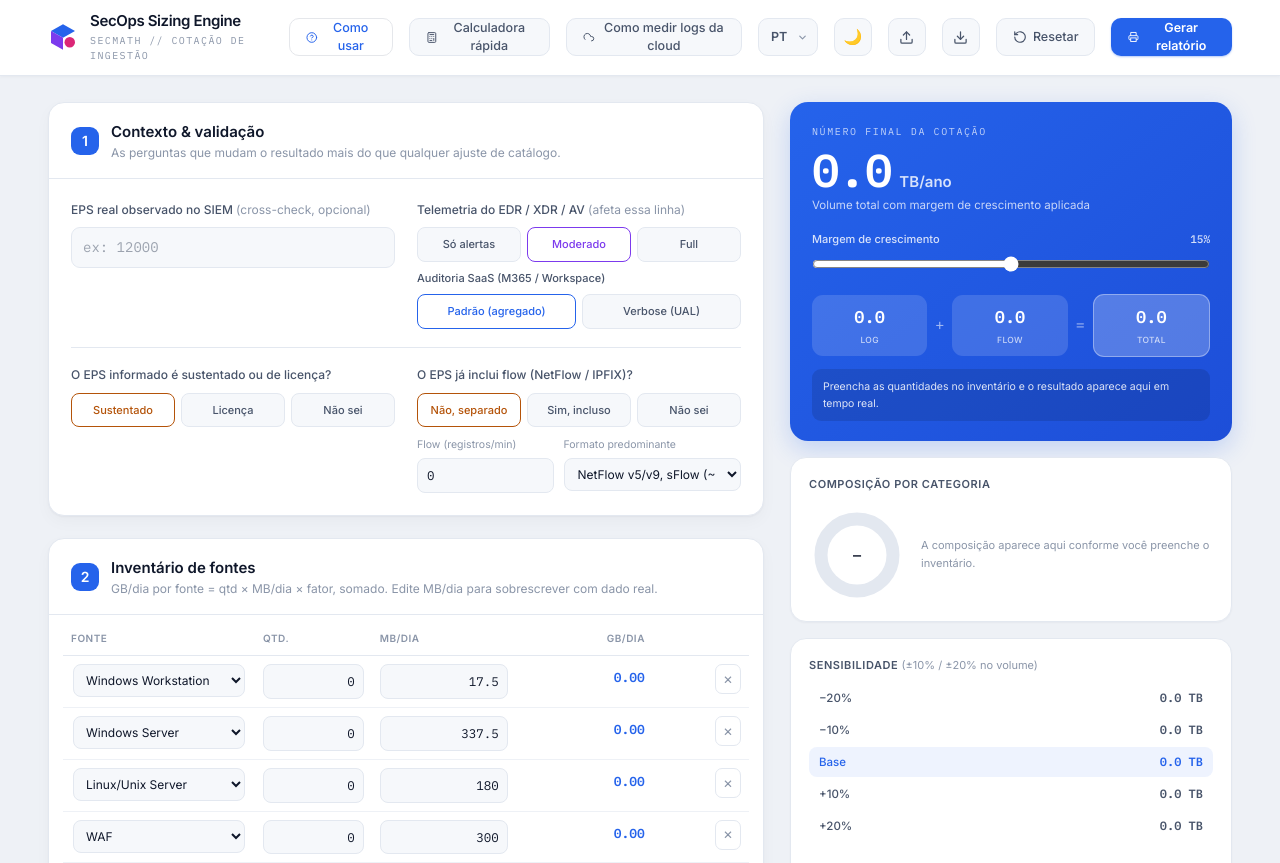
App (renderização) › abre o relatório ao clicar em Gerar relatório
Click the button "Gerar relatório" at x=1172, y=37, box [1112,18,1232,56]
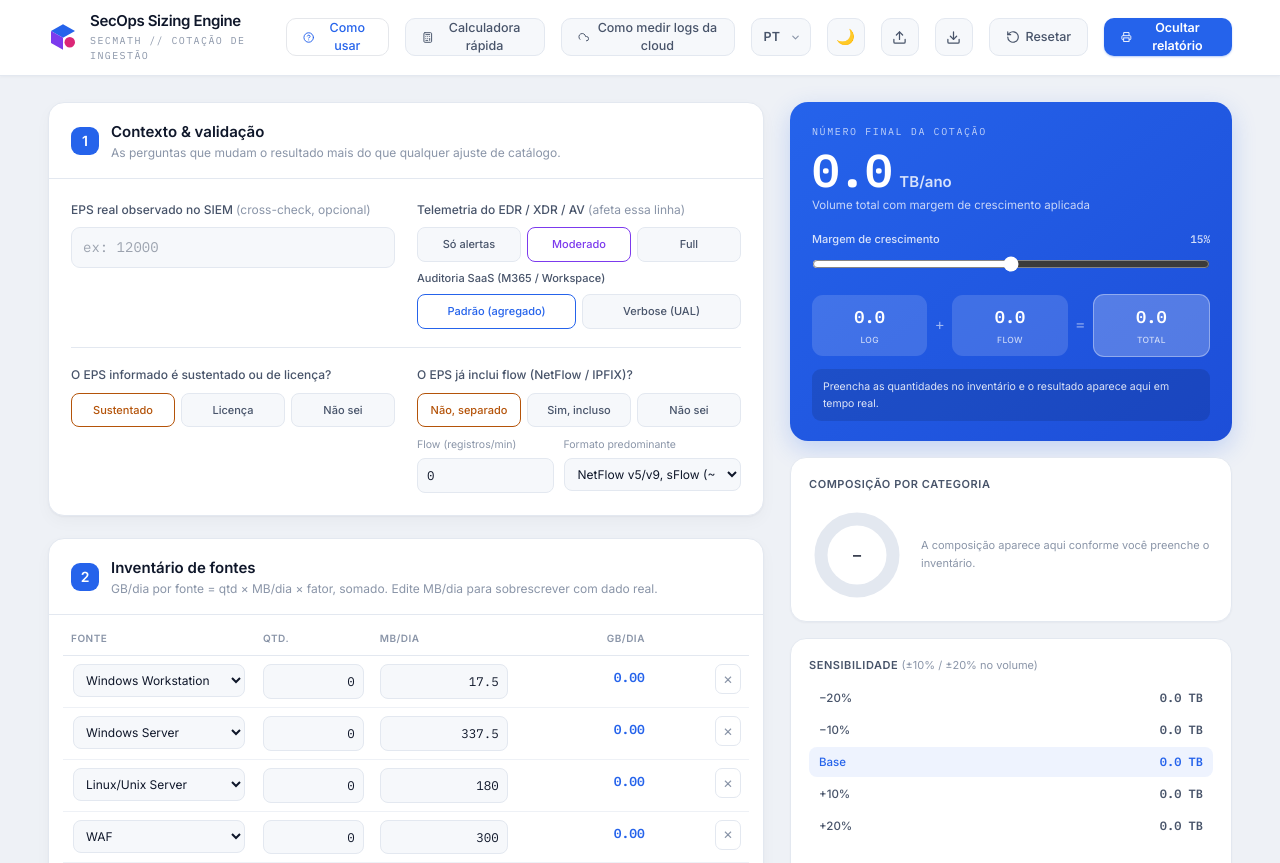
expect the text "Ocultar relatório" is shown: met, box [1152,20,1203,53]
